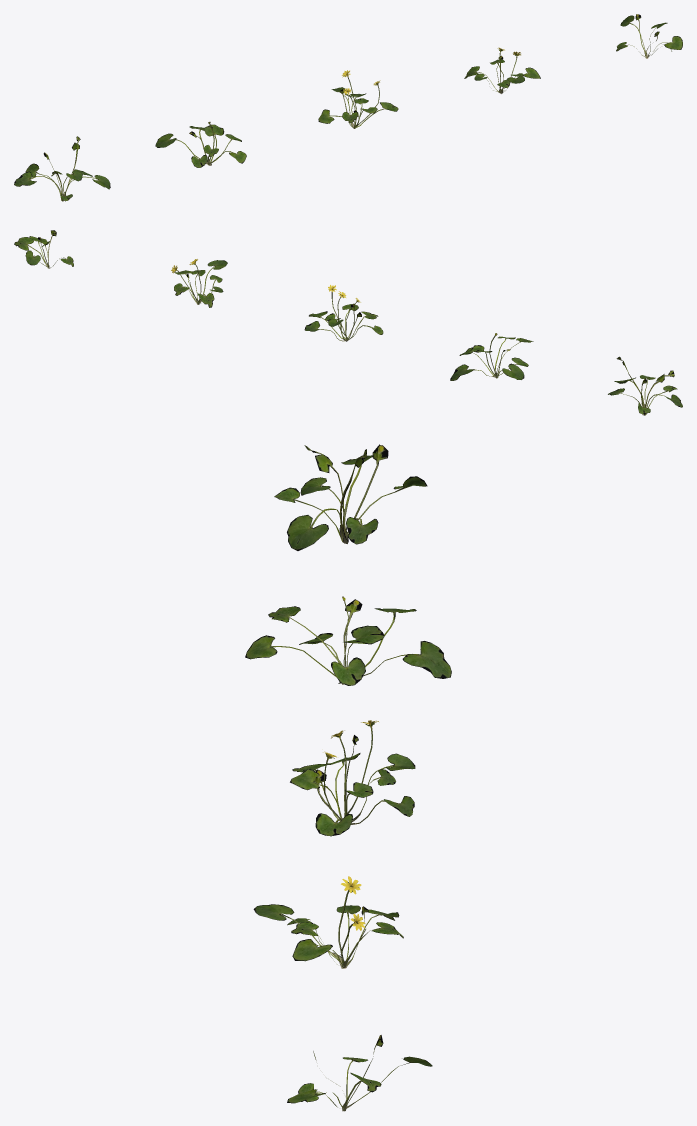
The model's file is celandine_01.glb.
3 views of the same model, one above another, from view 1: azimuth 30°, elevation 25°; view 2: azimuth 150°, elevation 25°; view 3: azimuth 270°, elevation 25° (orthographic). The views are drawn at different scales.
Visible parts, largest first — view 1: celandine_01_a_LOD0; view 2: celandine_01_a_LOD0; view 3: celandine_01_a_LOD0.
Part boxes in pixels (x1,y1,x2,y2): celandine_01_a_LOD0: [14, 14, 682, 201]; celandine_01_a_LOD0: [14, 230, 682, 415]; celandine_01_a_LOD0: [245, 444, 451, 1111].
Bounding box in the file's own units: 2.24 × 0.1859 × 0.3067.
1 material, 1 textured.
